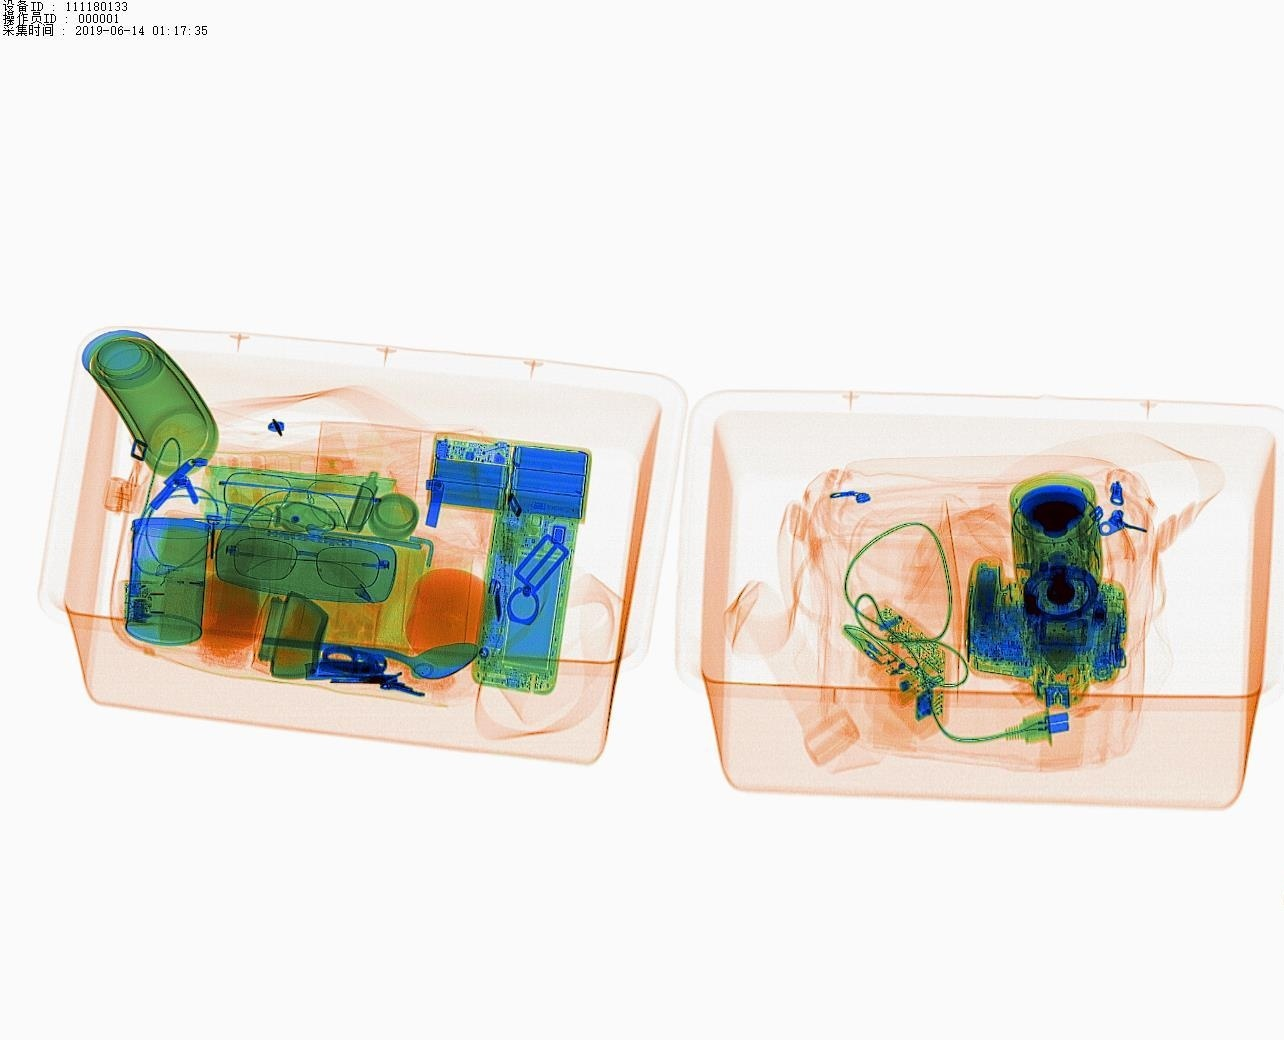NonmetallicFire: (148, 560, 238, 596)
